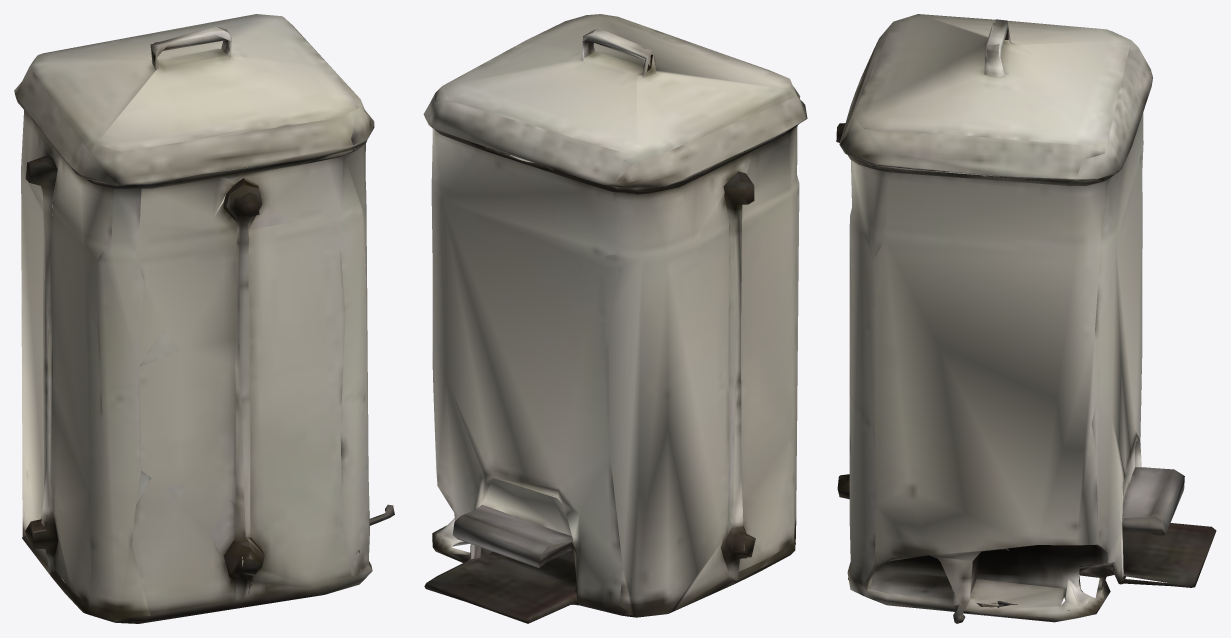
Rendered from cubo_pedal.movil.glb.
The picture shows the model from 3 angles, left to right: view 1: azimuth 30°, elevation 25°; view 2: azimuth 150°, elevation 25°; view 3: azimuth 270°, elevation 25°; orthographic projection. The views are drawn at different scales.
Parts seen in each view (by area): view 1: geometry_0; view 2: geometry_0; view 3: geometry_0.
Boxes of the visible parts, x1,y1,x2,y2 form: geometry_0: (14, 14, 394, 623); geometry_0: (423, 14, 807, 623); geometry_0: (836, 14, 1216, 623).
Bounding box in the file's own units: 0.2997 × 0.4491 × 0.299.
Materials: 1 (1 with a texture image).
